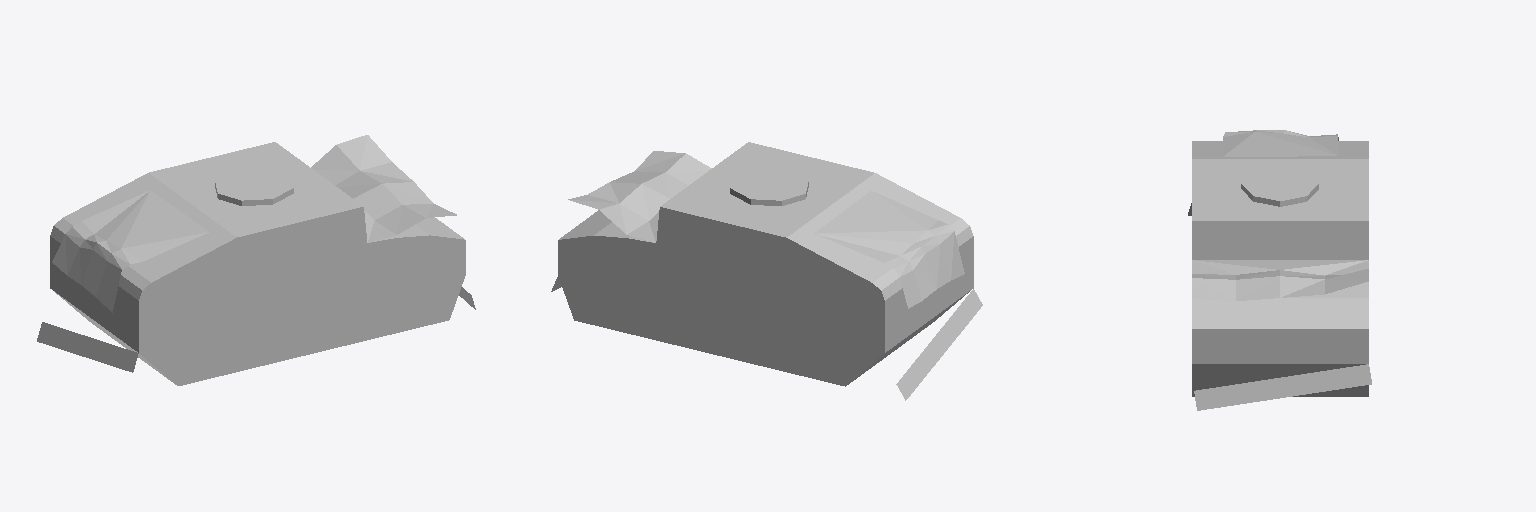
The model's file is MILIT_JED.obj.
The picture shows the model from 3 angles: view 1: azimuth 30°, elevation 25°; view 2: azimuth 150°, elevation 25°; view 3: azimuth 270°, elevation 25°; orthographic projection.
Visible parts, largest first — view 1: humveed; view 2: humveed; view 3: humveed.
Part boxes in pixels (left/top/right/bottom): humveed: left=37, top=135, right=475, bottom=385; humveed: left=551, top=142, right=982, bottom=400; humveed: left=1188, top=130, right=1371, bottom=410.
Bounding box in the file's own units: 200 × 76.81 × 89.65.